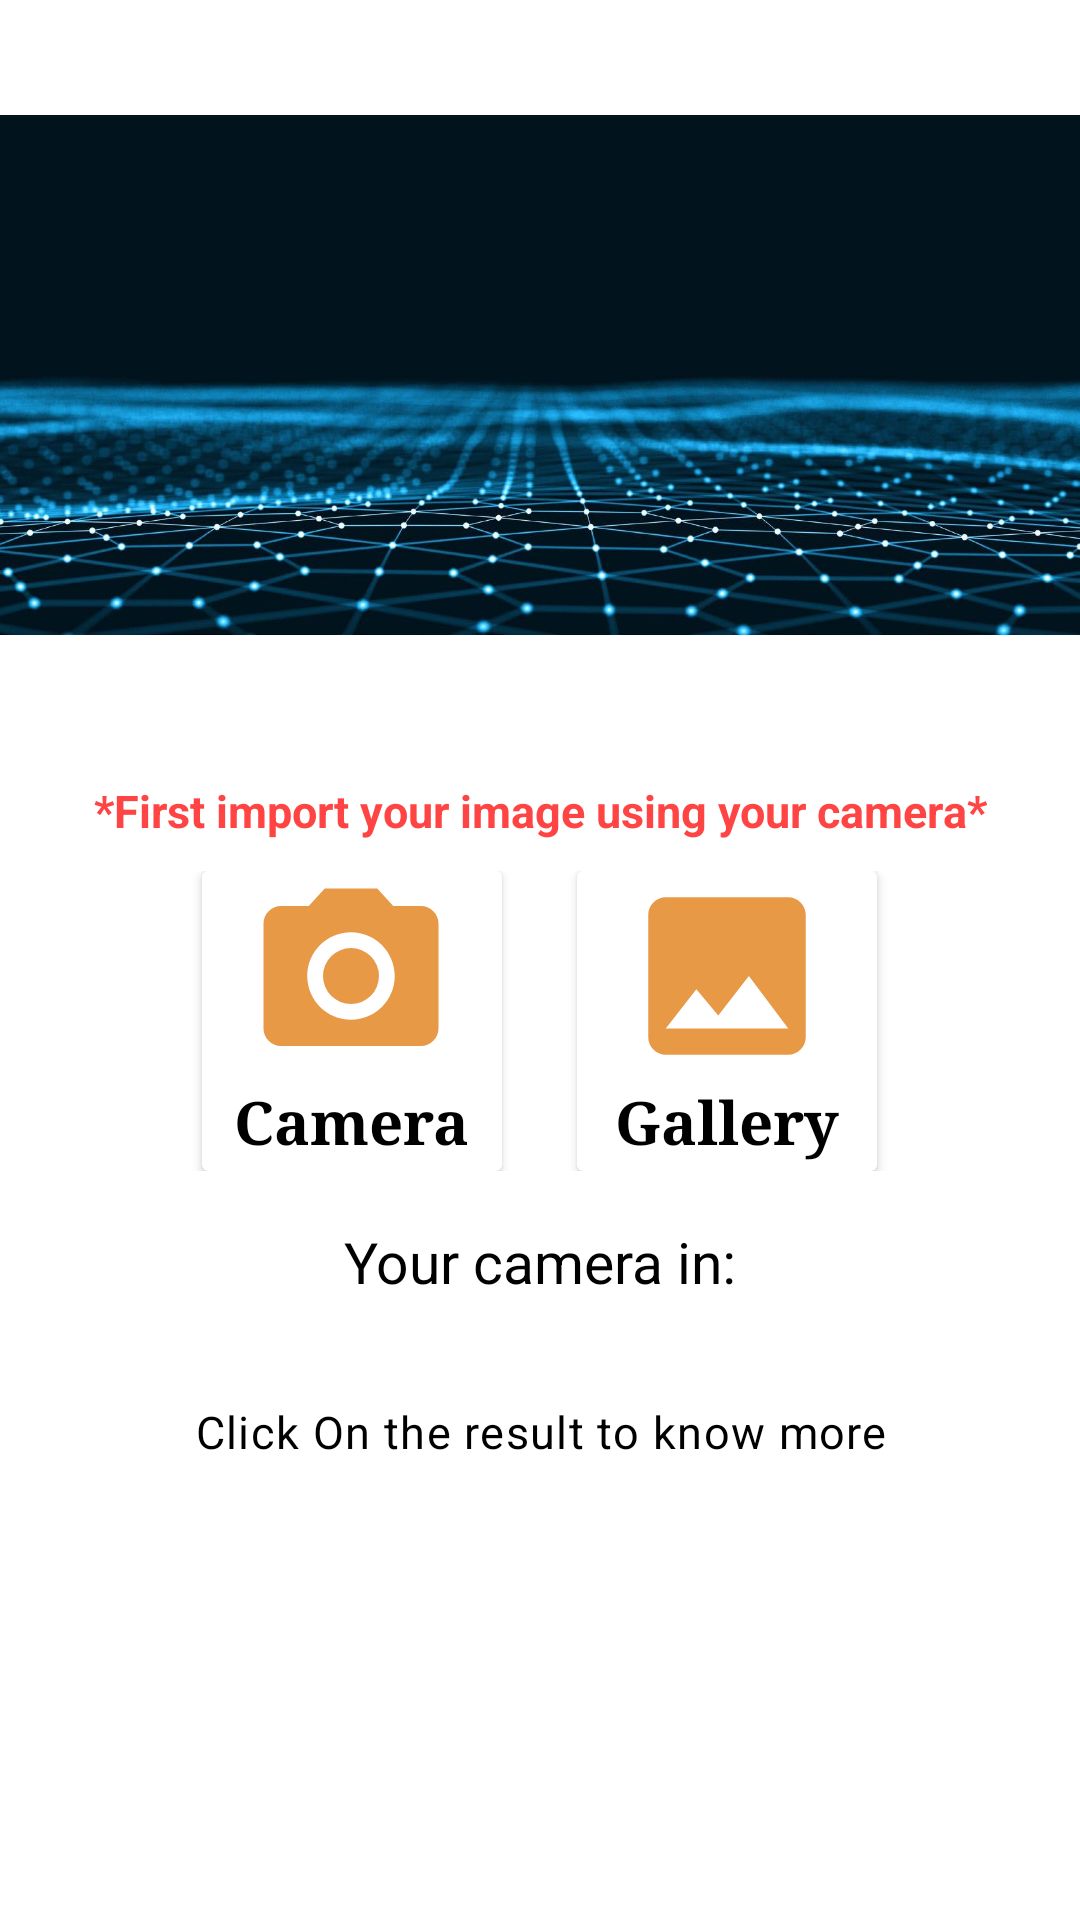

Named icons in this screenshot (1080px×1920px) and their bounding boxes, (x1, y1, x2, y2):
insert photo: (648, 897, 806, 1055)
